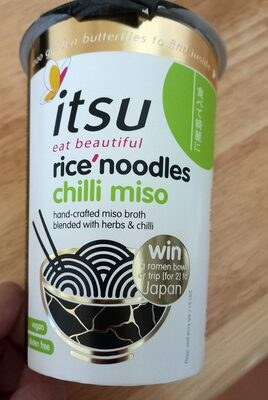Rice noodles chilli miso: (13, 20, 255, 380)
